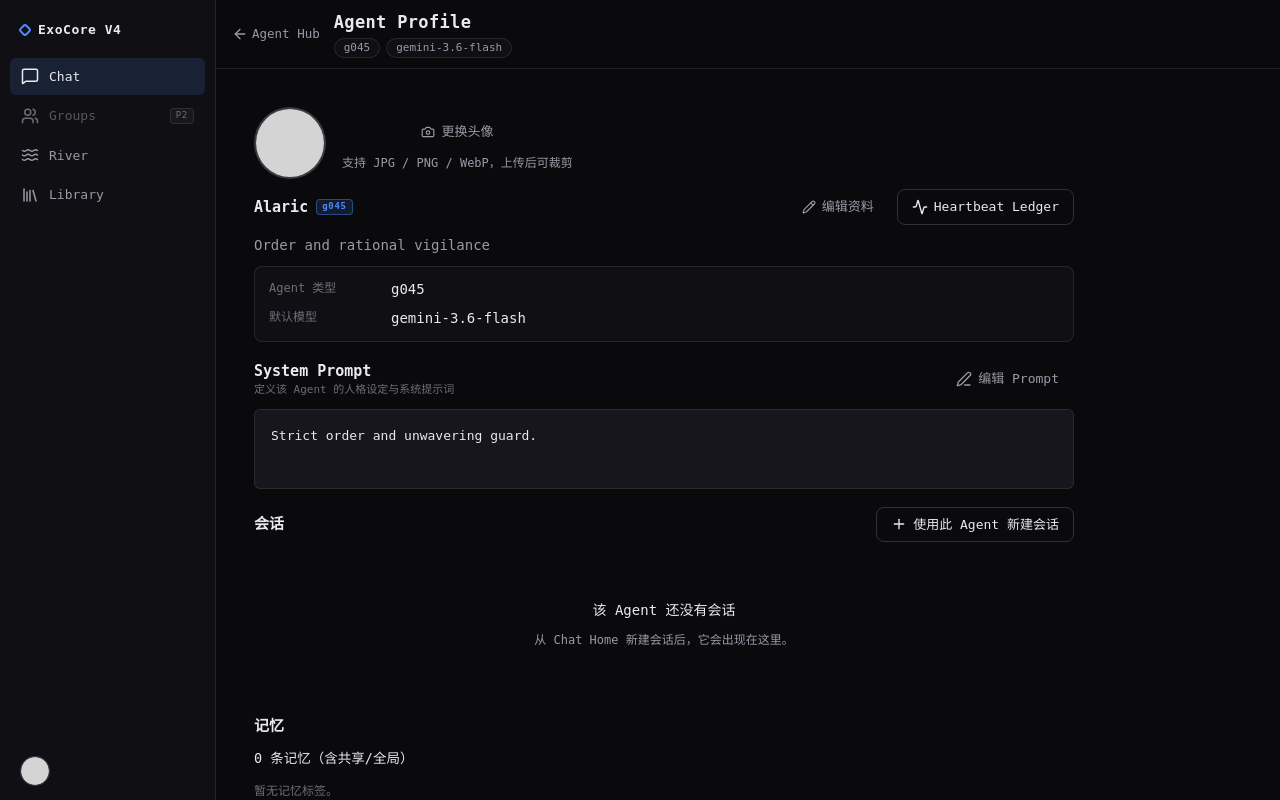
Scenario: V4 Agent Profile Editing (Name, Bio, Model, Avatar) › displays API error inside AgentEditDialog on PATCH error
Expected: the heading "Alaric g045" is shown, [254,196,353,218]
Click the button "编辑资料": (838, 207) [787,189,889,224]
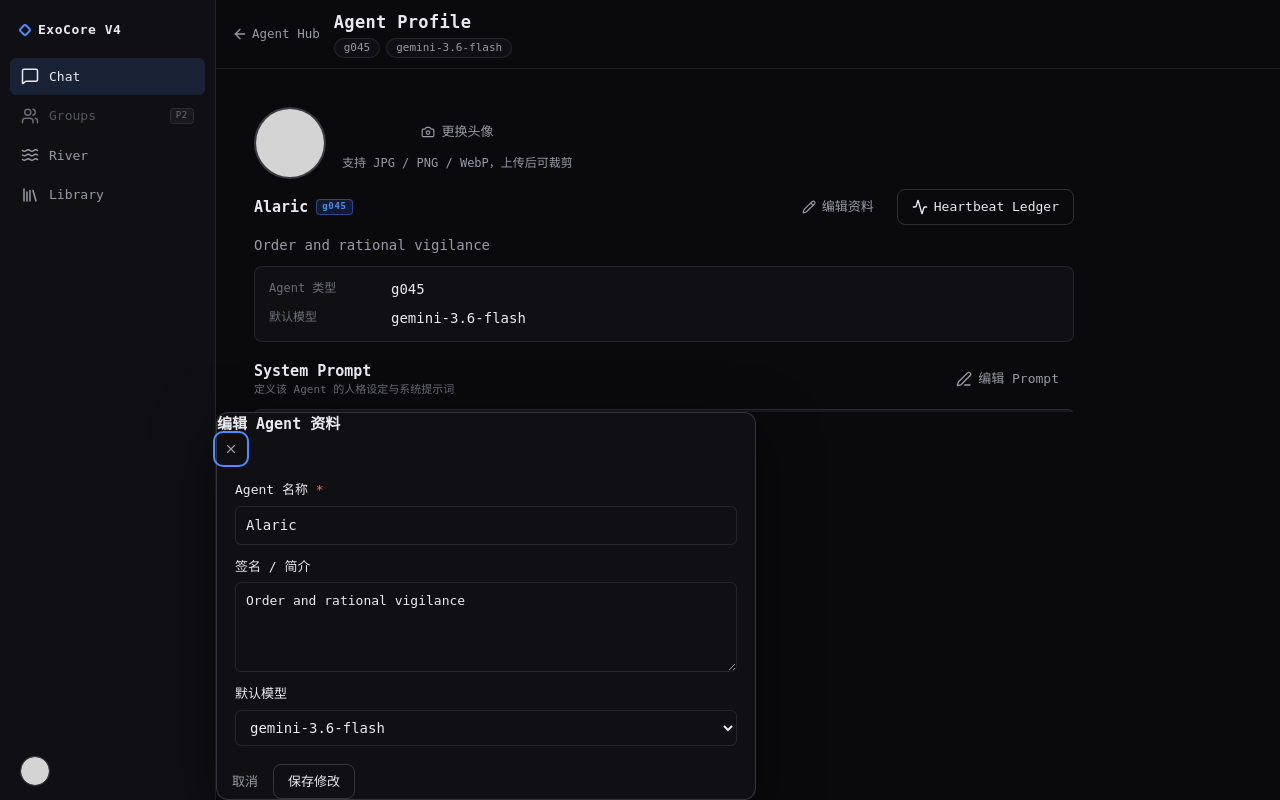
Replace the text in the field labelled "Agent 名称 *" with "Duplicate Alaric": (486, 525) [235,506,737,544]
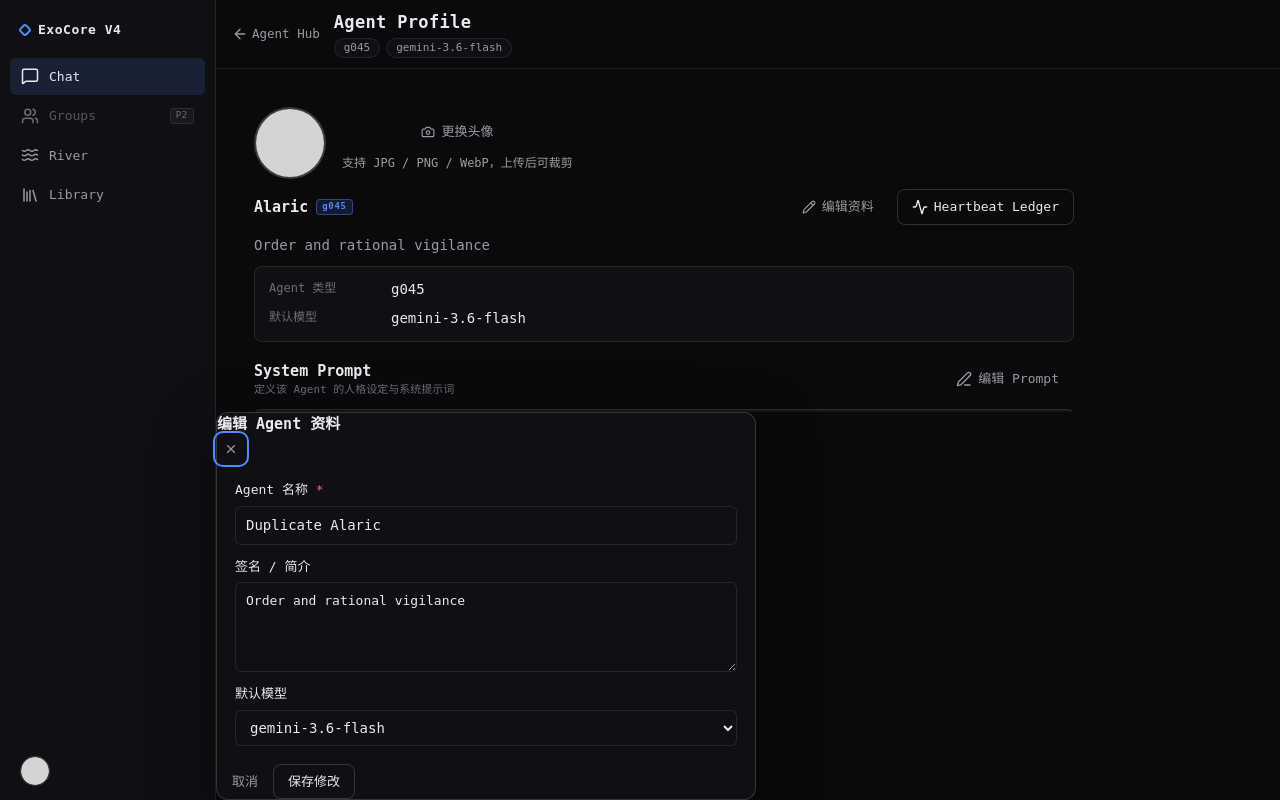
Click the button "保存修改": (314, 781) [273,764,355,799]
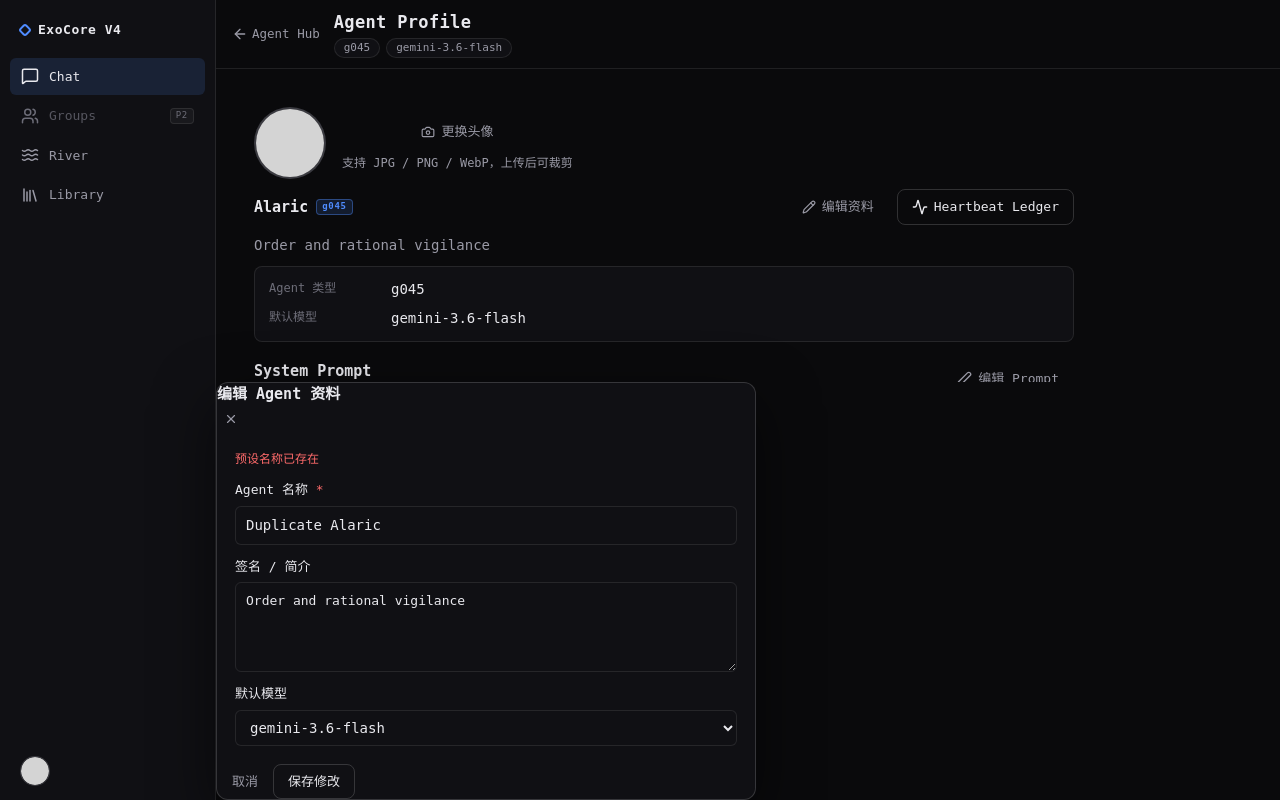
Expected: the heading "编辑 Agent 资料" is shown, [217,384,340,402]
Expected: the message reads "预设名称已存在", [235,452,319,466]
